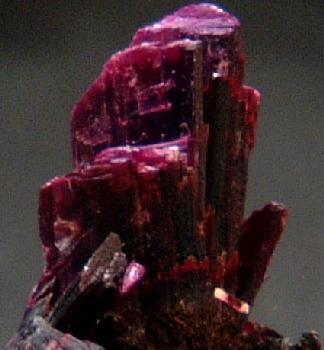erythrite: (7, 4, 289, 350)
